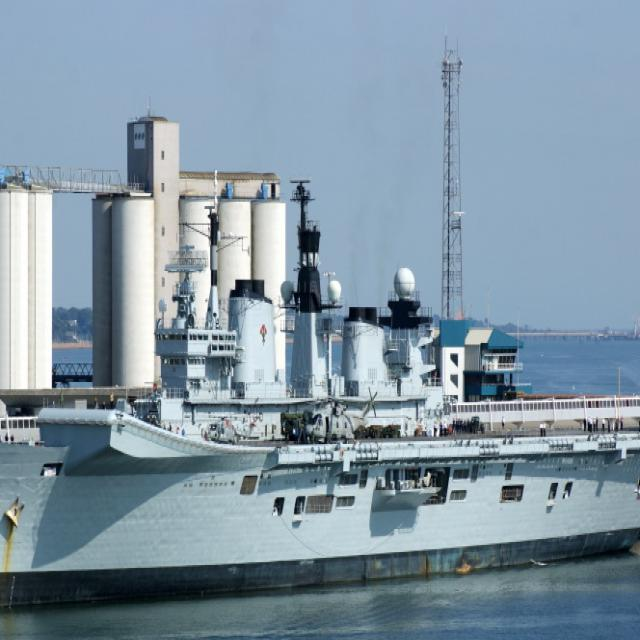Portanaves: (1, 166, 640, 620)
